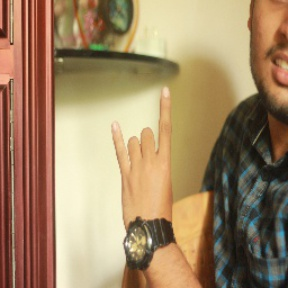V: (108, 85, 185, 232)
